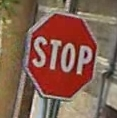stop: (24, 10, 98, 99)
